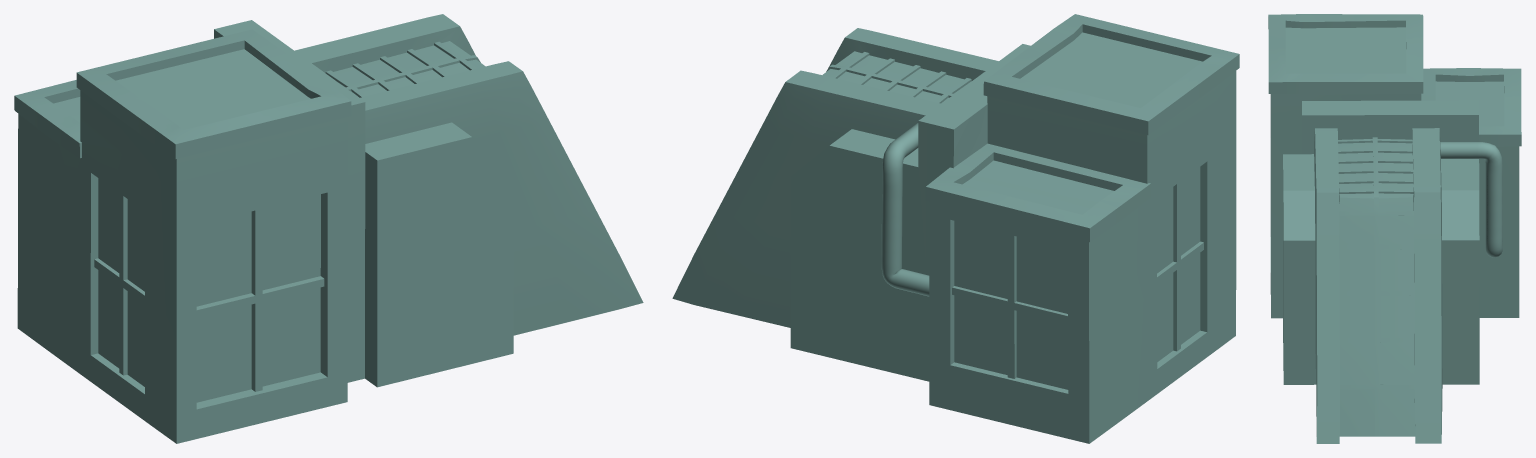
The model's file is building 6.fbx.
The picture shows the model from 3 angles, left to right: view 1: azimuth 30°, elevation 25°; view 2: azimuth 150°, elevation 25°; view 3: azimuth 270°, elevation 25°; orthographic projection. The views are drawn at different scales.
Parts seen in each view (by area): view 1: building 6; view 2: building 6; view 3: building 6.
Part boxes in pixels (<box>): building 6: <box>14,14,643,443</box>; building 6: <box>672,14,1239,443</box>; building 6: <box>1268,14,1521,443</box>.
Bounding box in the file's own units: 7115 × 4170 × 3969.
